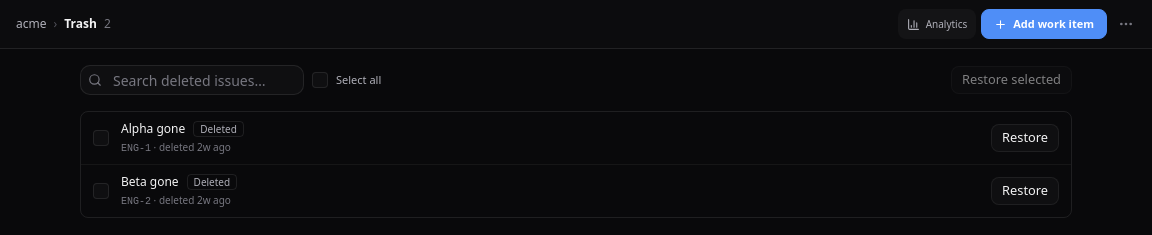
it: Trash page › search filters rows client-side by name
Expected: the text "Alpha gone" is shown, [121, 120, 185, 138]
Type "beta" into the field labelled "Search deleted issues" at (192, 80), box [80, 65, 304, 95]
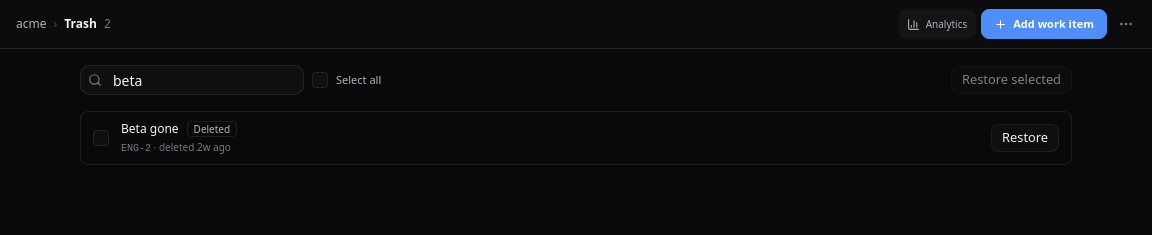
Expected: the text "Beta gone" is shown, [121, 120, 179, 138]
Result: the text "Alpha gone" is gone
